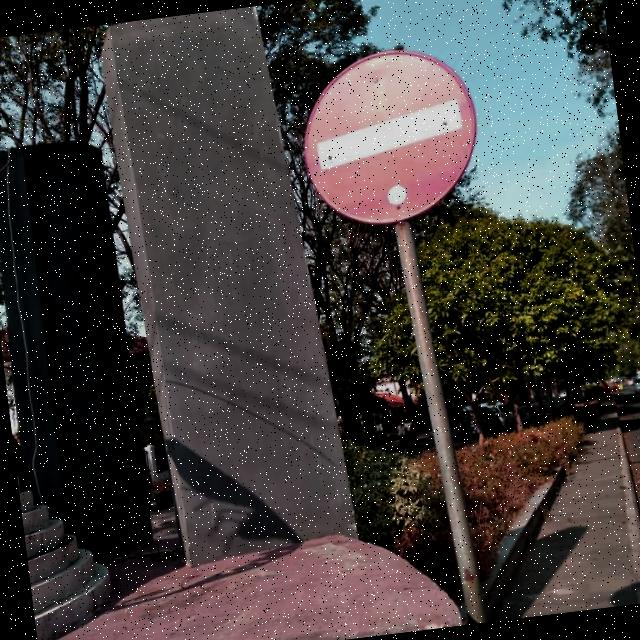Zakaz wjazdu: (296, 46, 482, 236)
